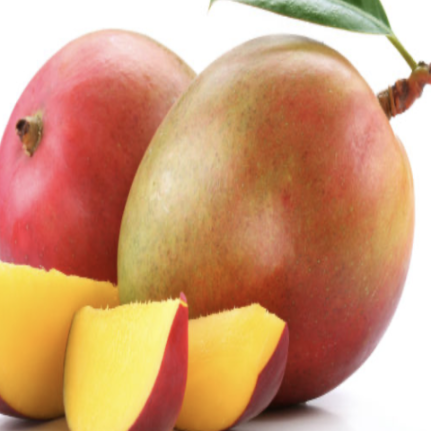mango: (100, 31, 431, 411)
